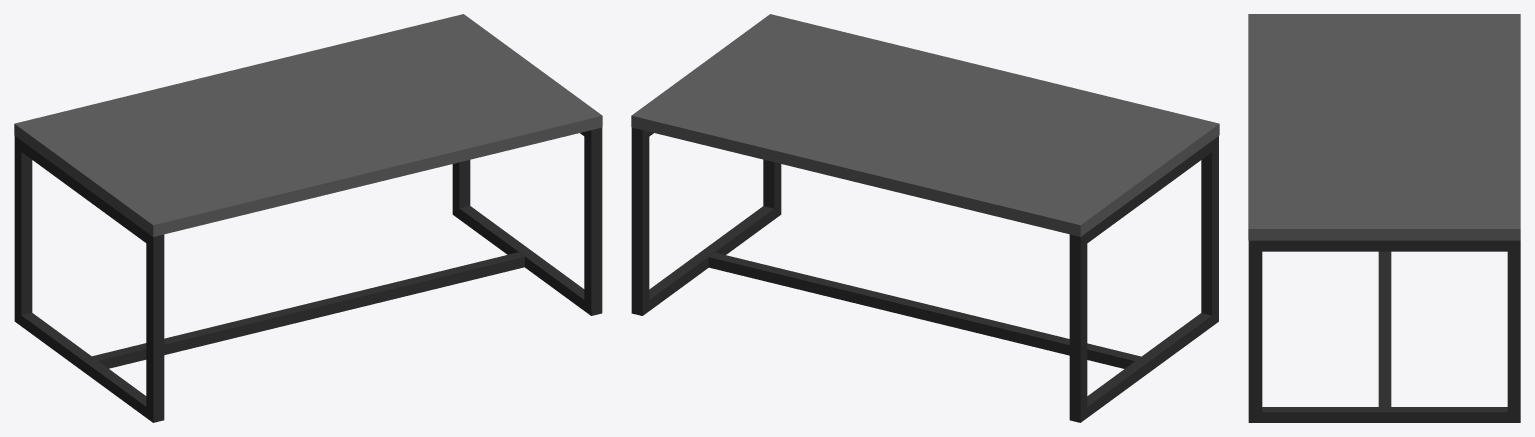
File: tables002.glb
3 renders of one model, left to right at view 1: azimuth 30°, elevation 25°; view 2: azimuth 150°, elevation 25°; view 3: azimuth 270°, elevation 25°, orthographic.
Parts seen in each view (by area): view 1: tables.002; view 2: tables.002; view 3: tables.002.
Part boxes in pixels (x1,y1,x2,y2): tables.002: [14, 14, 602, 422]; tables.002: [631, 14, 1219, 422]; tables.002: [1248, 14, 1520, 422].
Size of the model in its own units: 1.87 by 0.7856 by 1.
Materials: 1 (1 with a texture image).
